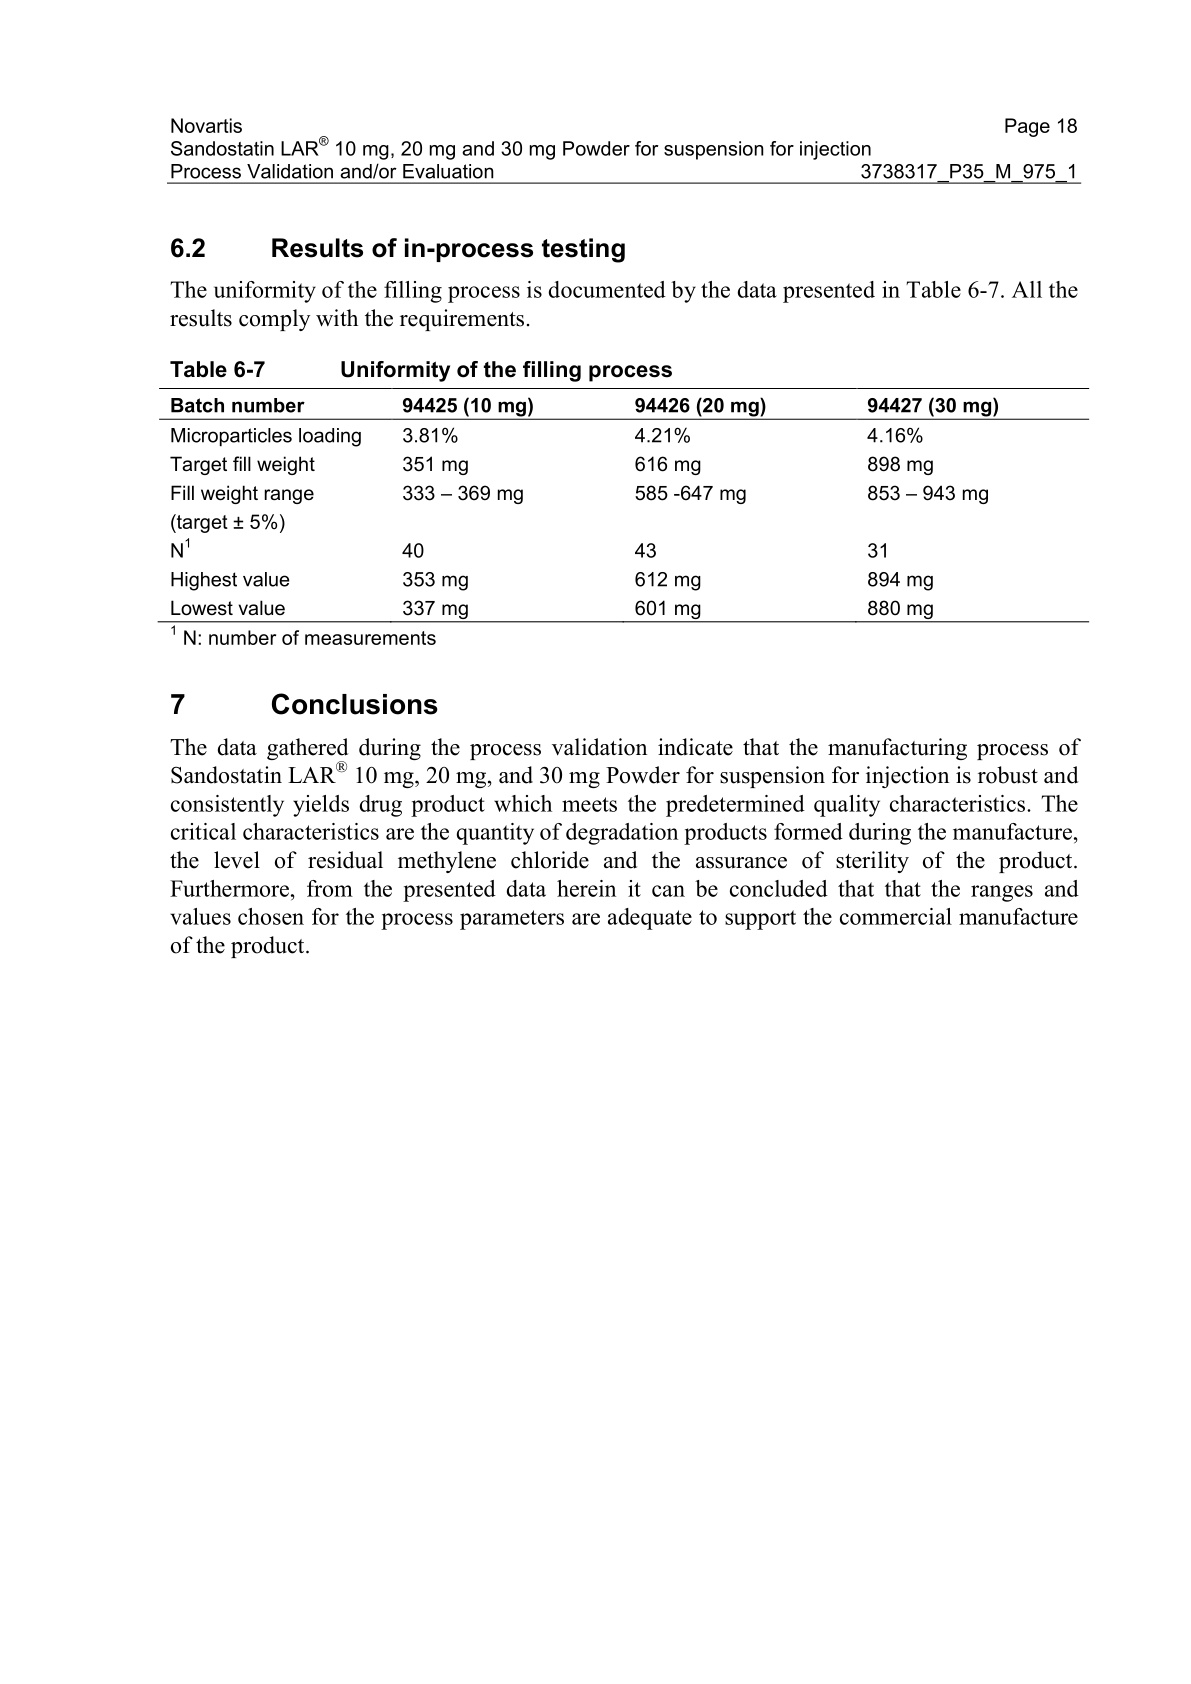partial_lined: (159, 387, 1093, 626)
